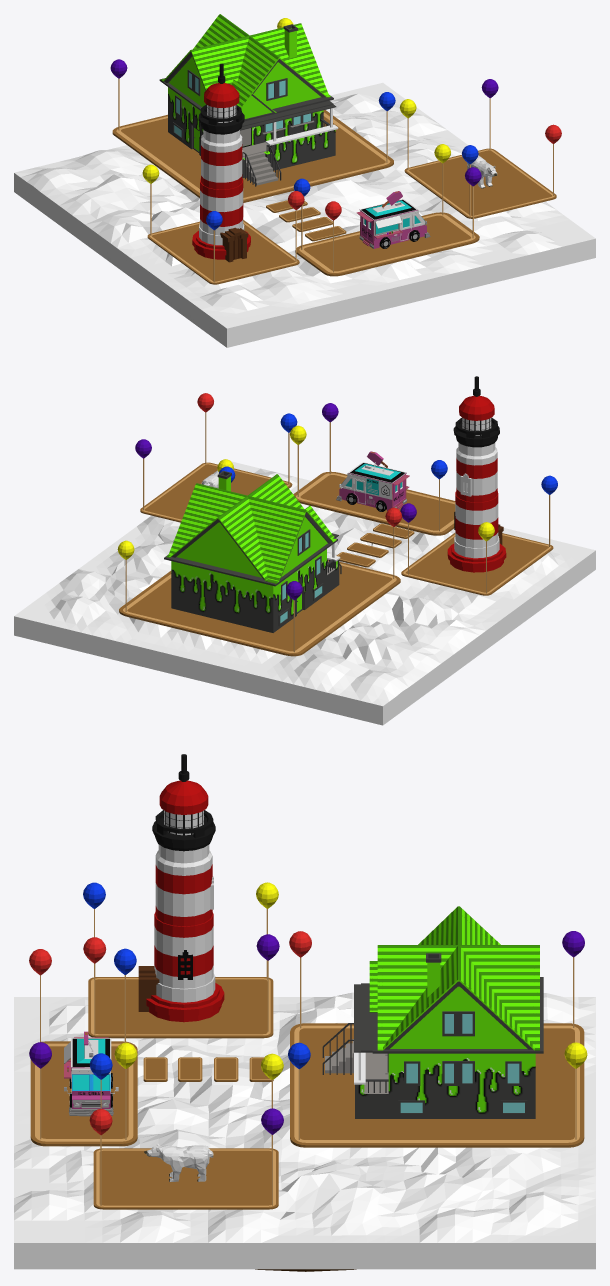
3 views of the same model, one above another, from view 1: azimuth 30°, elevation 25°; view 2: azimuth 150°, elevation 25°; view 3: azimuth 270°, elevation 25° (orthographic). The views are drawn at different scales.
Parts seen in each view (by area): view 1: Cube.013, Cube.754, OBJRANDOM_LIGHTHOUSE, VEHICLES_ICE_CREAM_TRUCK, ANIMAL_OSO_POLAR; view 2: Cube.013, Cube.754, OBJRANDOM_LIGHTHOUSE, VEHICLES_ICE_CREAM_TRUCK; view 3: Cube.013, Cube.754, OBJRANDOM_LIGHTHOUSE, VEHICLES_ICE_CREAM_TRUCK, ANIMAL_OSO_POLAR.
Part boxes in pixels (x1,y1,x2,y2): Cube.013: [14, 18, 595, 347]; Cube.754: [159, 14, 338, 186]; OBJRANDOM_LIGHTHOUSE: [192, 63, 250, 262]; VEHICLES_ICE_CREAM_TRUCK: [356, 191, 430, 248]; ANIMAL_OSO_POLAR: [467, 155, 497, 188]; Cube.013: [14, 393, 595, 725]; Cube.754: [164, 471, 341, 632]; OBJRANDOM_LIGHTHOUSE: [447, 376, 506, 572]; VEHICLES_ICE_CREAM_TRUCK: [336, 451, 409, 511]; Cube.013: [14, 882, 595, 1269]; Cube.754: [322, 906, 543, 1118]; OBJRANDOM_LIGHTHOUSE: [138, 754, 224, 1022]; VEHICLES_ICE_CREAM_TRUCK: [64, 1031, 118, 1116]; ANIMAL_OSO_POLAR: [144, 1143, 213, 1181].
Size of the model in its own units: 4000 by 2467 by 4000.
Materials: 46 (2 with a texture image).
